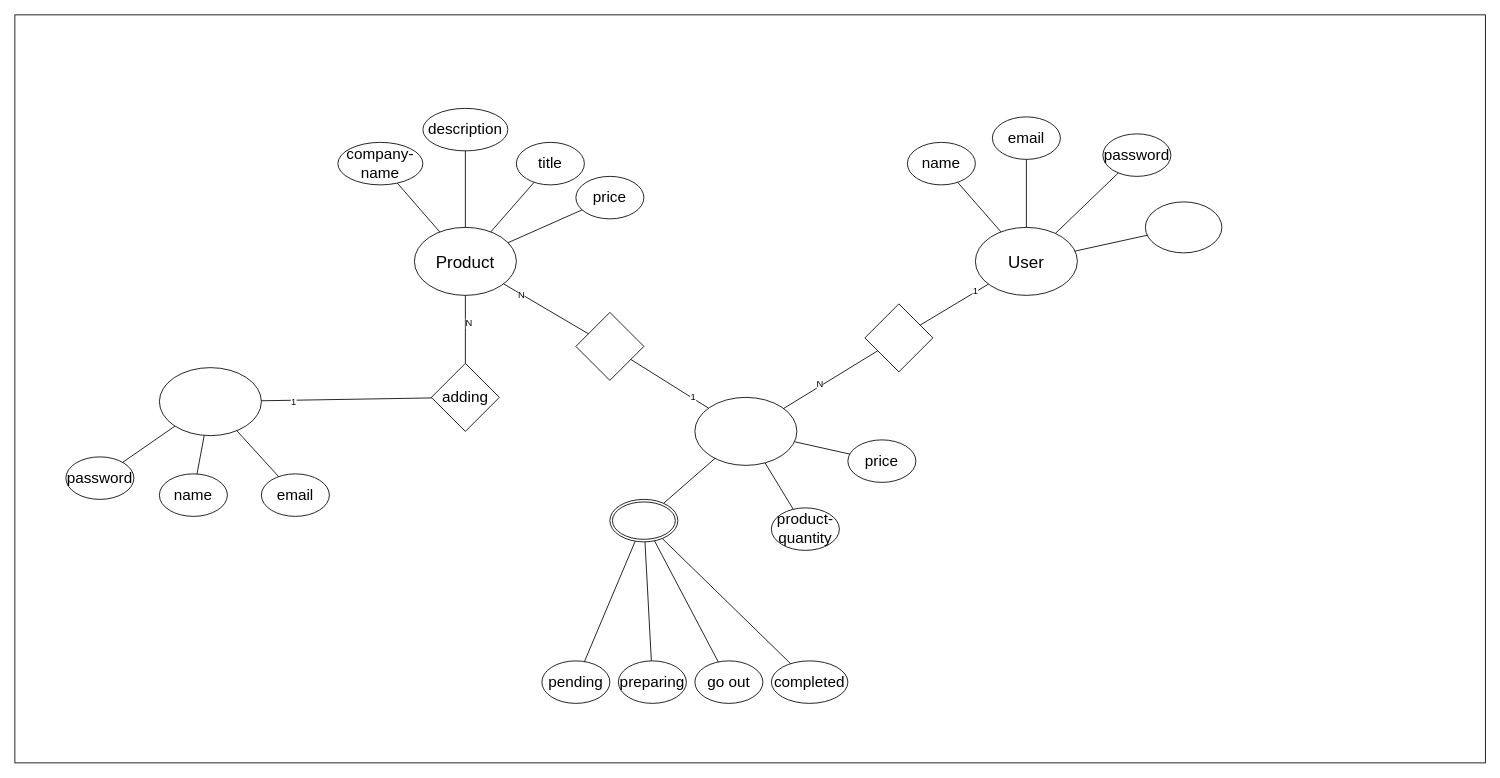
Image size: 1500x778. Some labels were removed from this diagram. Each missing label, with the box of its shape:
Admin: (159, 367, 261, 436)
append: (575, 312, 644, 380)
Buy: (864, 303, 933, 372)
Order: (694, 397, 797, 465)
phone-number: (1145, 201, 1222, 253)
status: (609, 499, 678, 542)
